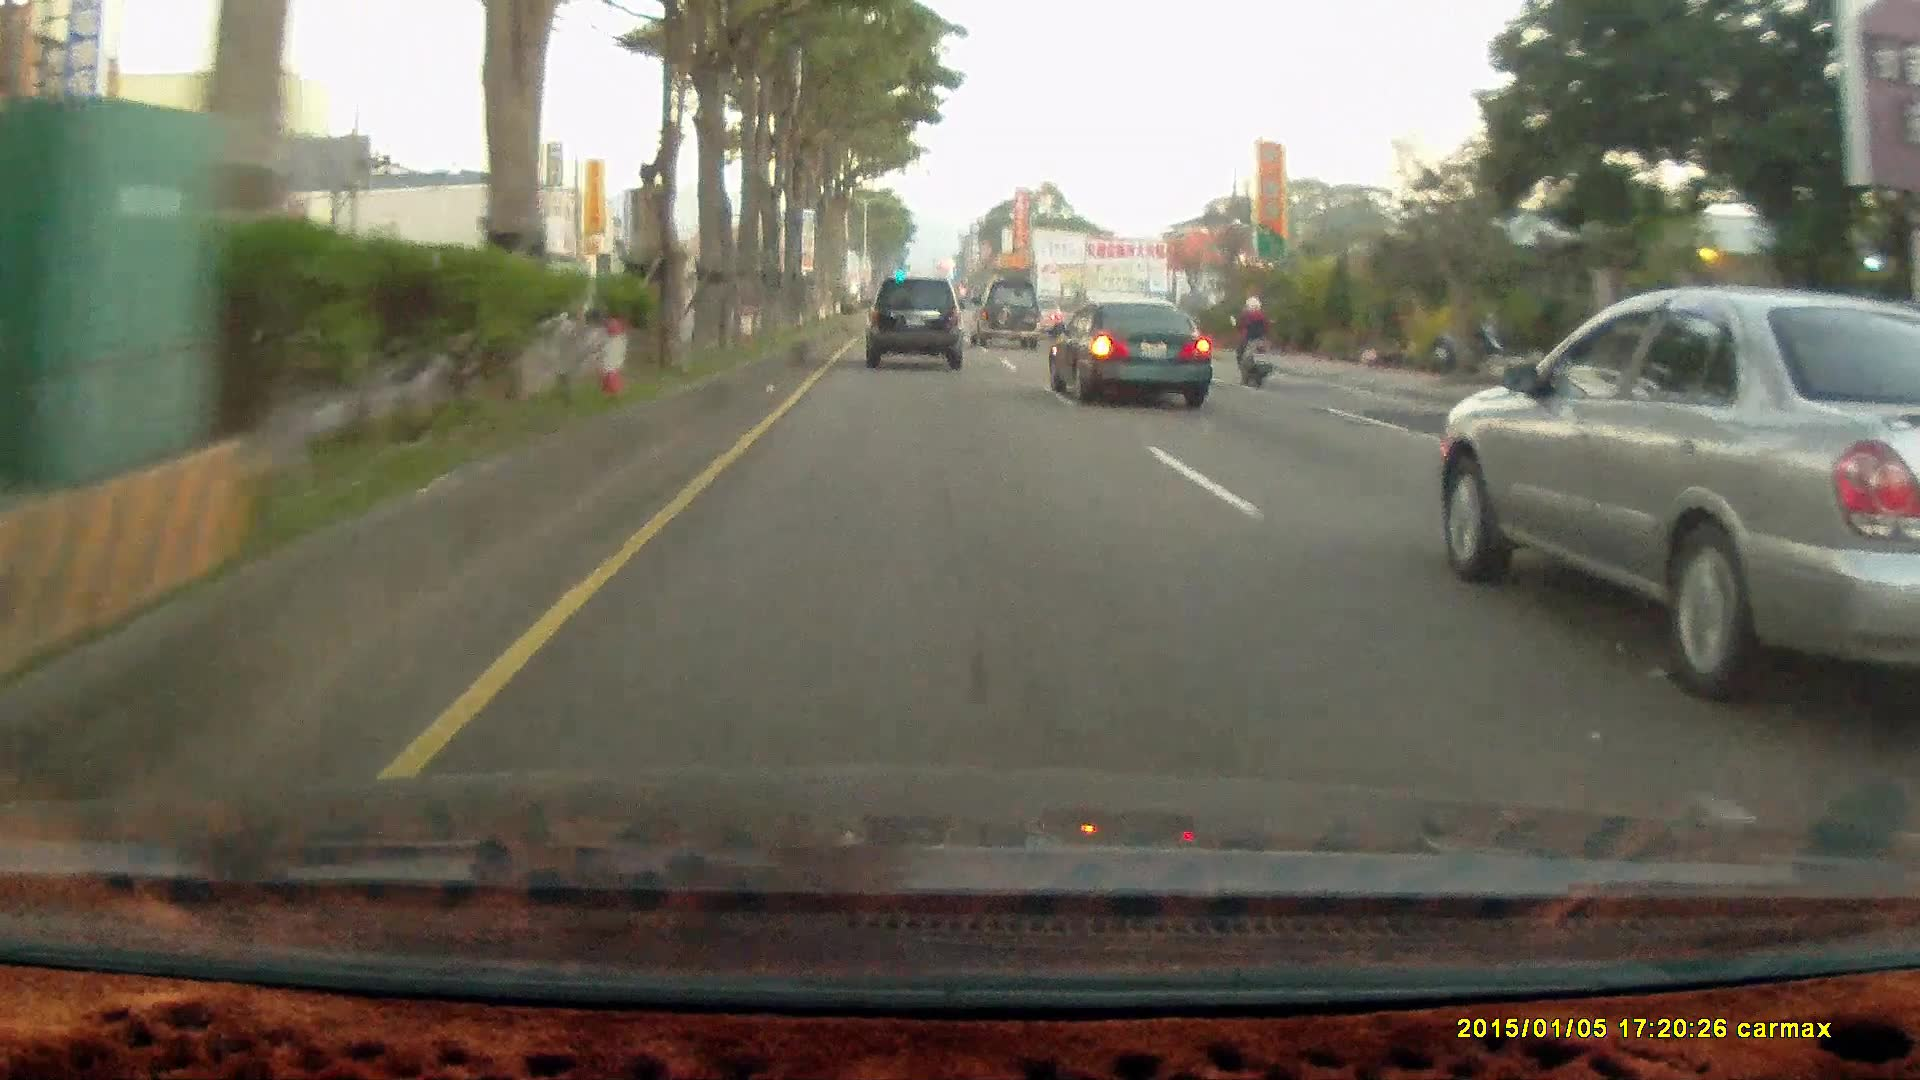rider: (1222, 284, 1284, 399), (1227, 290, 1277, 387)
vehicle: (1439, 296, 1915, 714), (1048, 295, 1218, 412), (1046, 296, 1211, 407), (864, 275, 972, 376), (860, 279, 961, 371), (971, 281, 1045, 350), (970, 283, 1039, 350)
